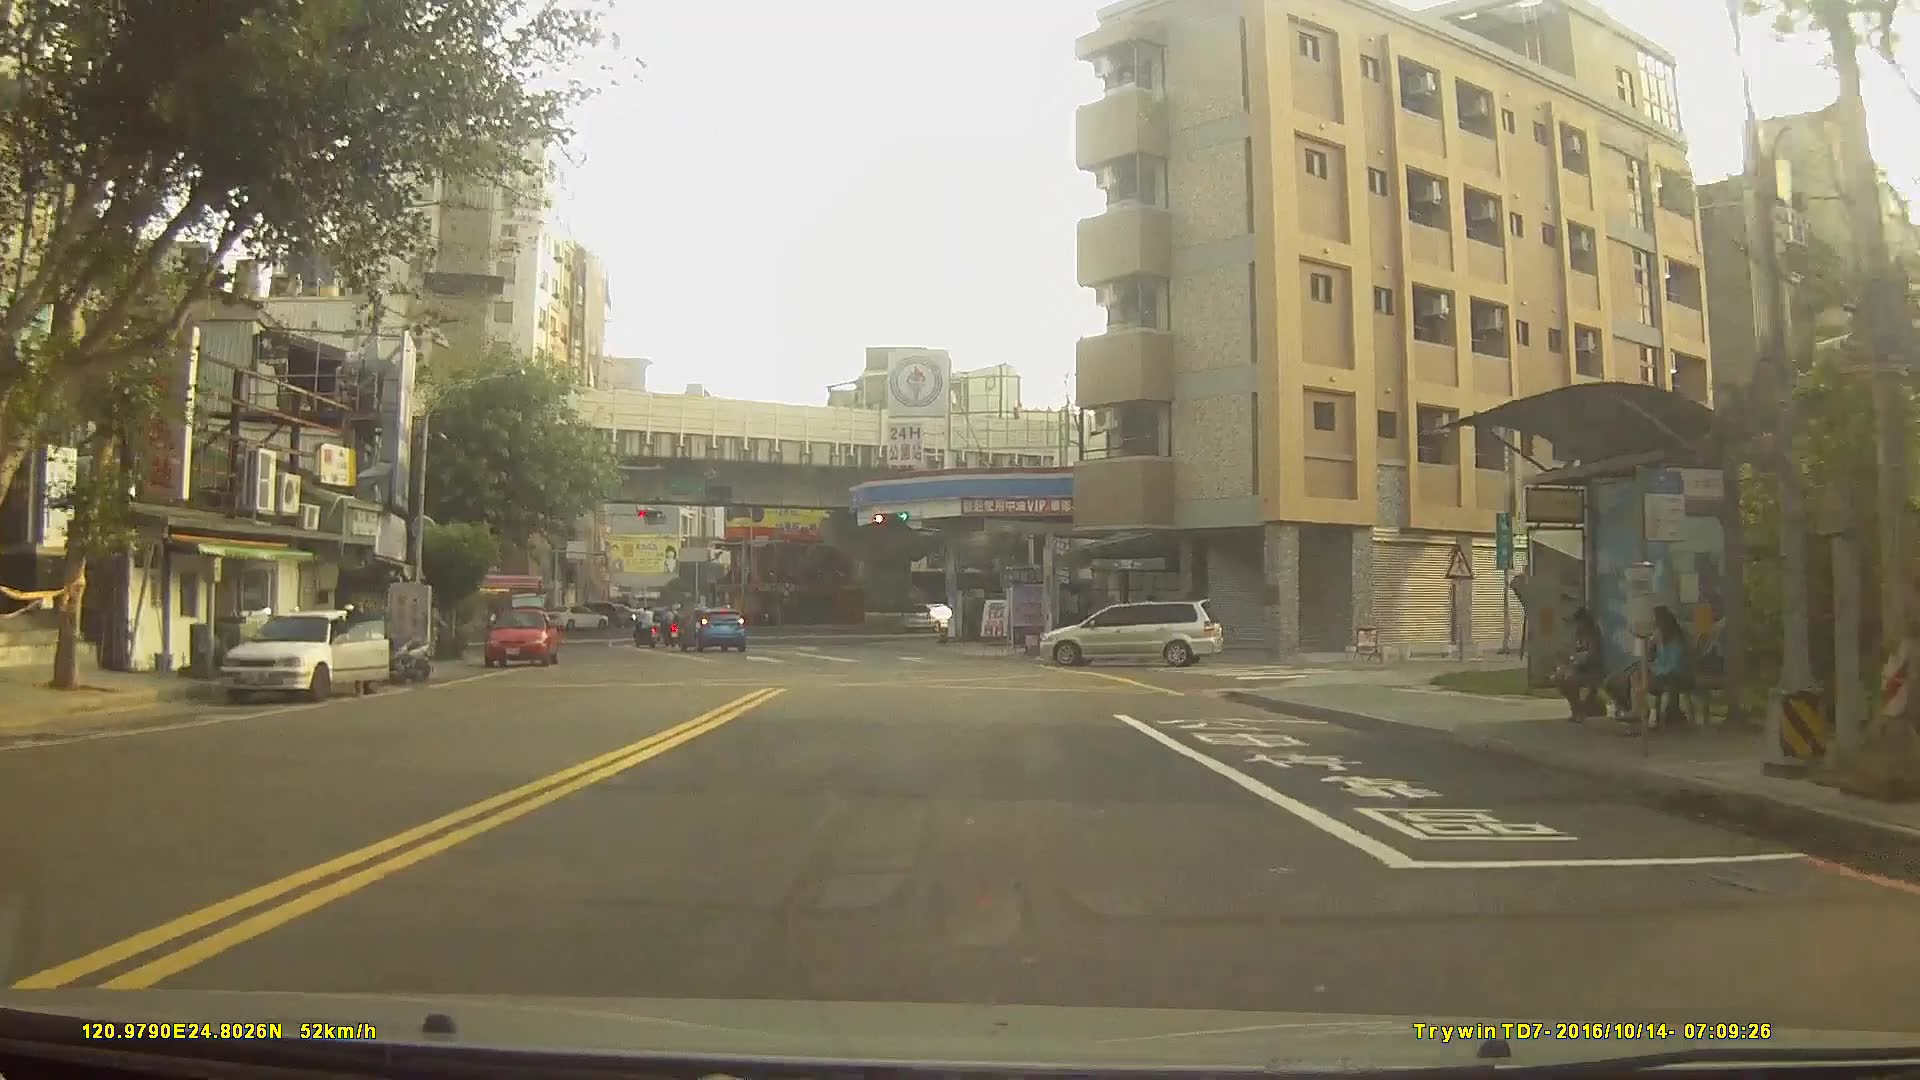pedestrian: (1550, 609, 1610, 721), (1655, 597, 1684, 746)
rider: (631, 605, 662, 652)
vehicle: (216, 608, 392, 706), (1035, 599, 1225, 666), (481, 605, 558, 665), (674, 605, 748, 651), (543, 603, 609, 630), (558, 602, 618, 632), (901, 599, 956, 630)
